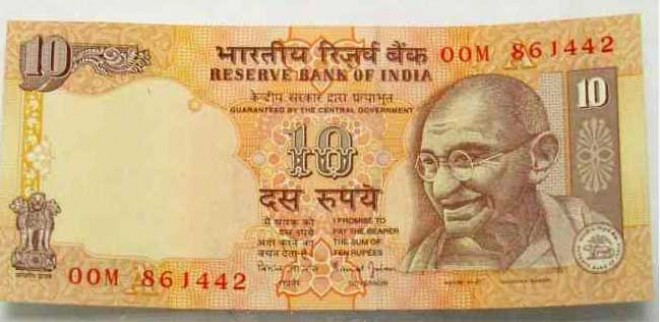ten_rupees_note: (3, 22, 654, 310)
